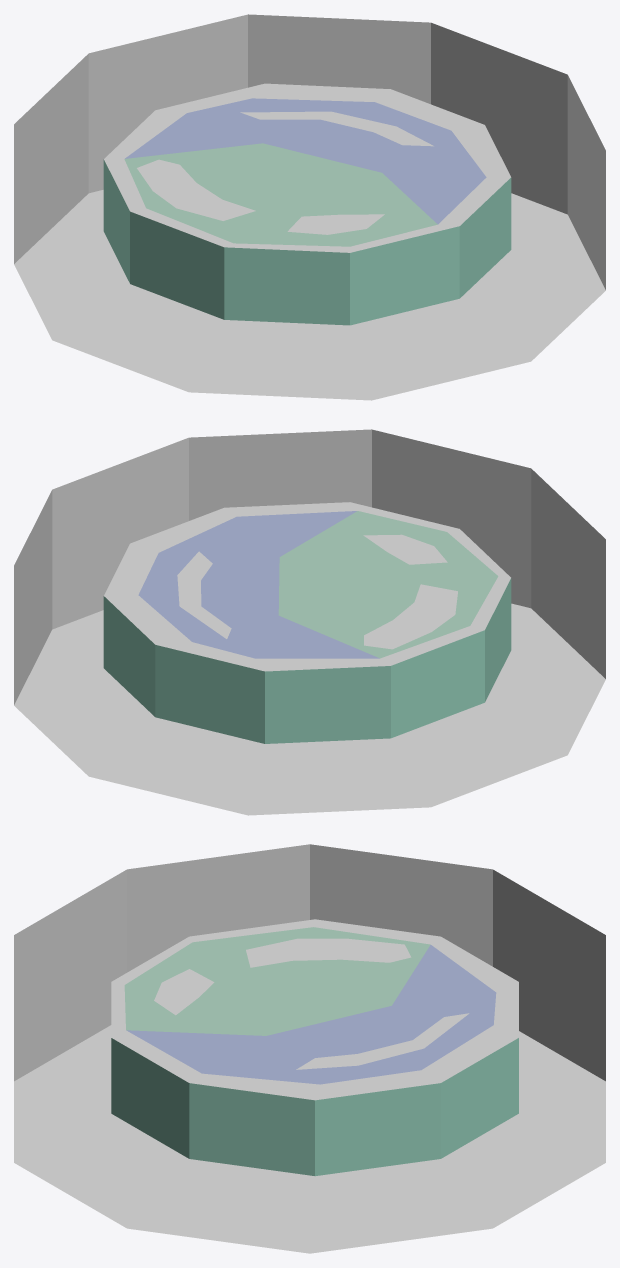
Rendered from SquidStickBubble.glb.
3 views of the same model, one above another, from view 1: azimuth 30°, elevation 25°; view 2: azimuth 150°, elevation 25°; view 3: azimuth 270°, elevation 25° (orthographic). The views are drawn at different scales.
Parts seen in each view (by area): view 1: SquidStickBubble; view 2: SquidStickBubble; view 3: SquidStickBubble.
Boxes of the visible parts, box(x1,y1,x2,y2) form: SquidStickBubble: box(14, 14, 605, 400); SquidStickBubble: box(14, 429, 605, 815); SquidStickBubble: box(14, 844, 605, 1253).
Bounding box in the file's own units: 0.2318 × 0.0601 × 0.2204.
